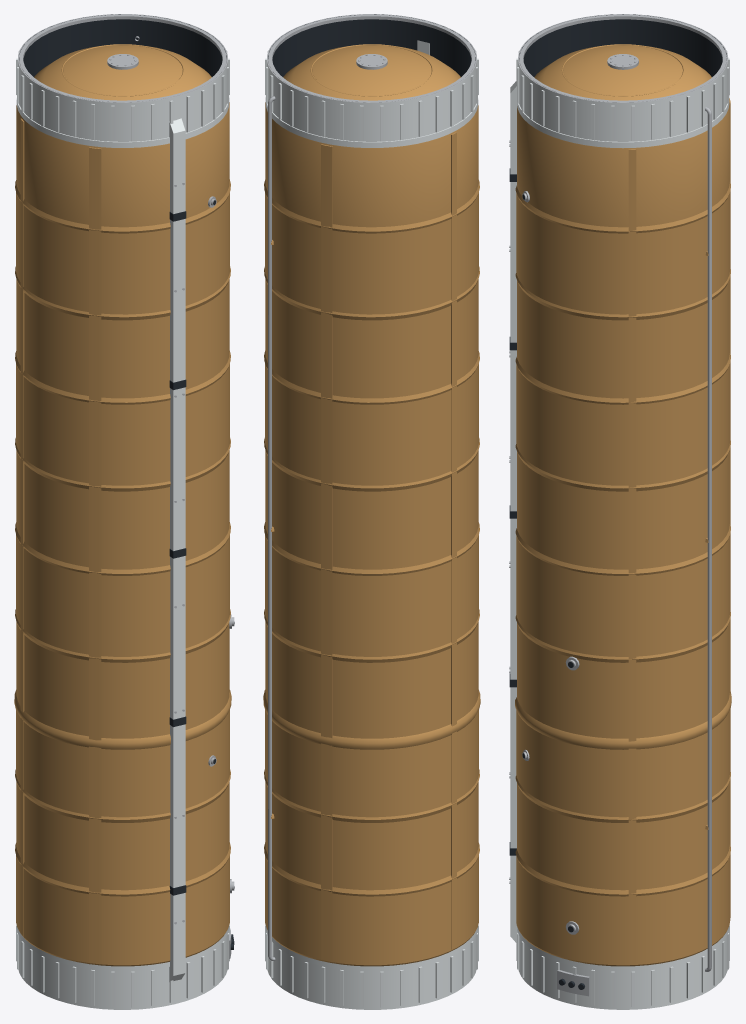
Rendered from tank_s2_m_hydrolox.fbx.
3 renders of one model, left to right at view 1: azimuth 30°, elevation 25°; view 2: azimuth 150°, elevation 25°; view 3: azimuth 270°, elevation 25°, orthographic.
Parts seen in each view (by area): view 1: tank_s2_m_hydrolox_LOD0; view 2: tank_s2_m_hydrolox_LOD0; view 3: tank_s2_m_hydrolox_LOD0.
Part boxes in pixels (x1,y1,x2,y2): tank_s2_m_hydrolox_LOD0: (14,14,234,1009); tank_s2_m_hydrolox_LOD0: (263,14,480,1009); tank_s2_m_hydrolox_LOD0: (509,14,731,1009).
Size of what is drawn, in the model's own units: 3.82 by 17.6 by 3.91.
